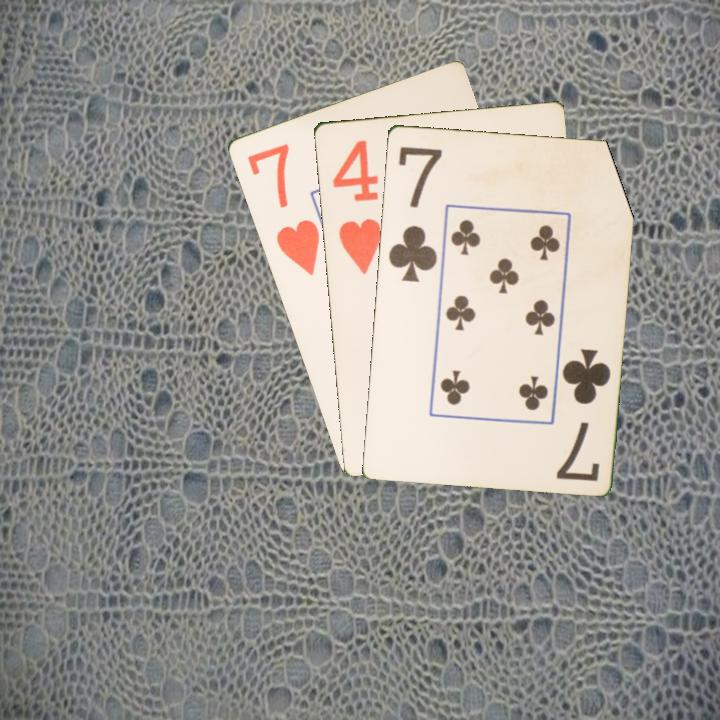4h: (328, 136, 385, 277)
7c: (384, 142, 445, 285), (552, 345, 613, 484)
7h: (243, 139, 322, 279)
